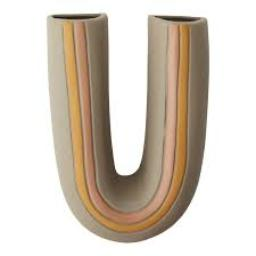u: (38, 8, 222, 246)
